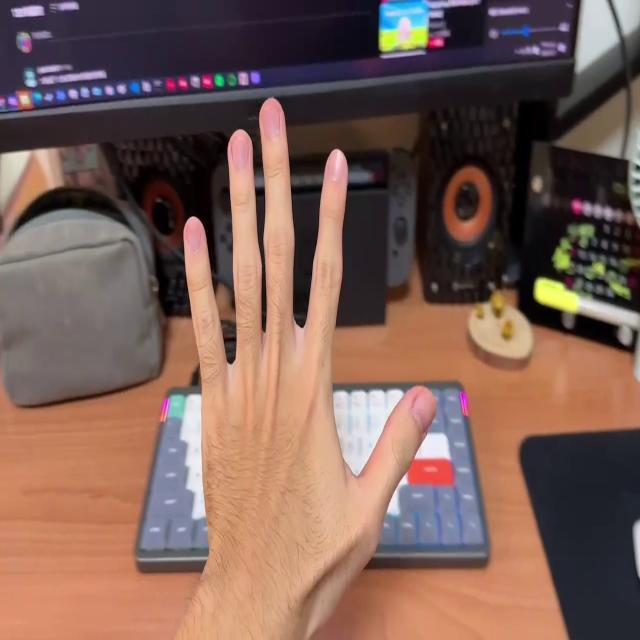keyboard-with-hands: (135, 383, 487, 551)
